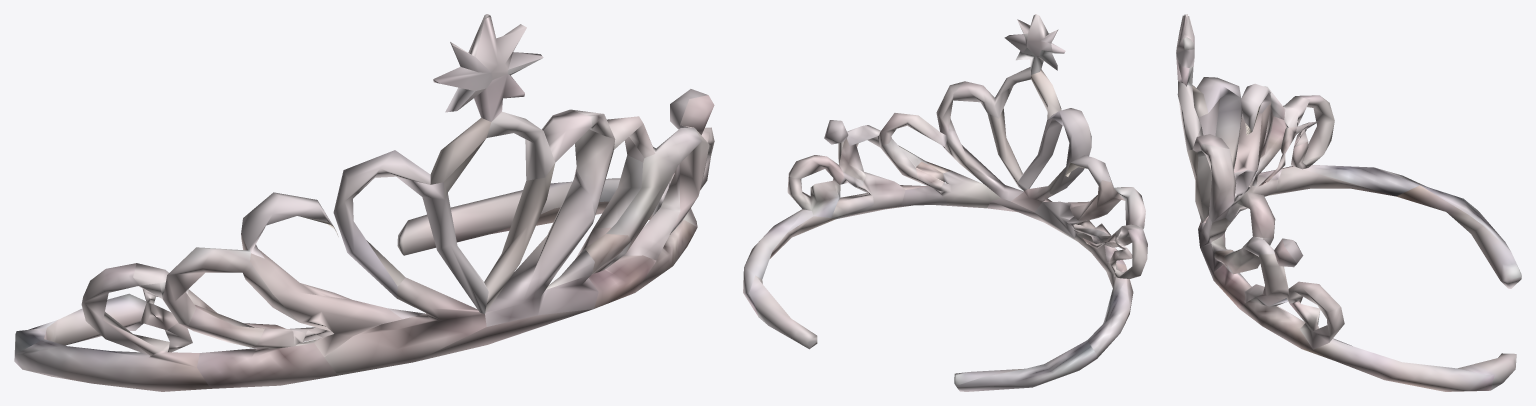
3 views of the same model, side by side, from view 1: azimuth 30°, elevation 25°; view 2: azimuth 150°, elevation 25°; view 3: azimuth 270°, elevation 25° (orthographic). The views are drawn at different scales.
Parts seen in each view (by area): view 1: Silver-Tiara-15; view 2: Silver-Tiara-15; view 3: Silver-Tiara-15.
Part boxes in pixels (x1,y1,x2,y2): Silver-Tiara-15: (14, 14, 714, 391); Silver-Tiara-15: (743, 14, 1147, 391); Silver-Tiara-15: (1176, 14, 1521, 391).
Size of the model in its own units: 0.3057 by 0.2132 by 0.2154.
1 material, 1 textured.
